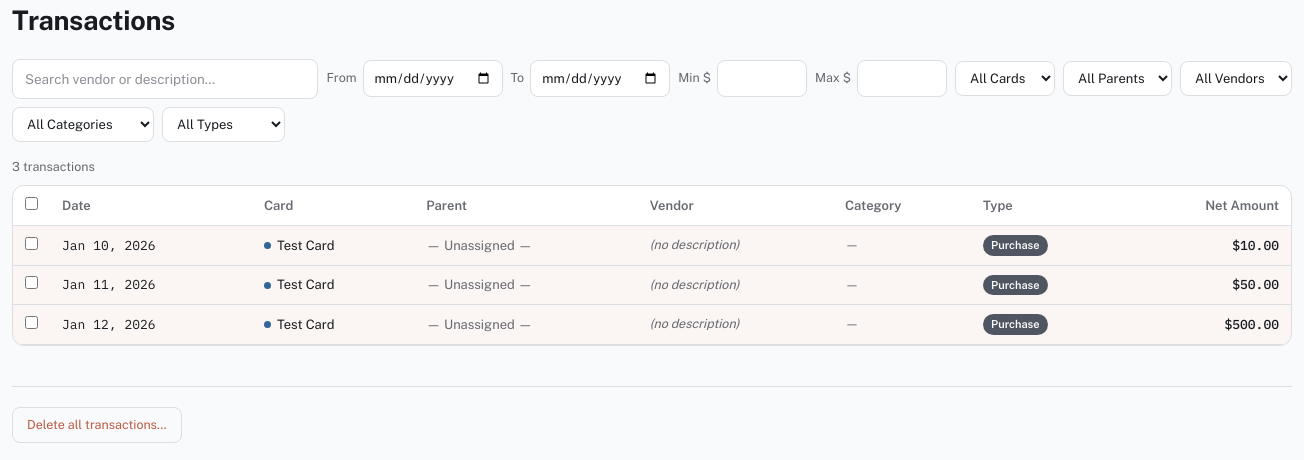
Test: Transactions amount filter › keeps only transactions with a gross amount at or above Min $
In the number field labelled "Min $": x=762, y=79 [717,60,807,97], type "40"
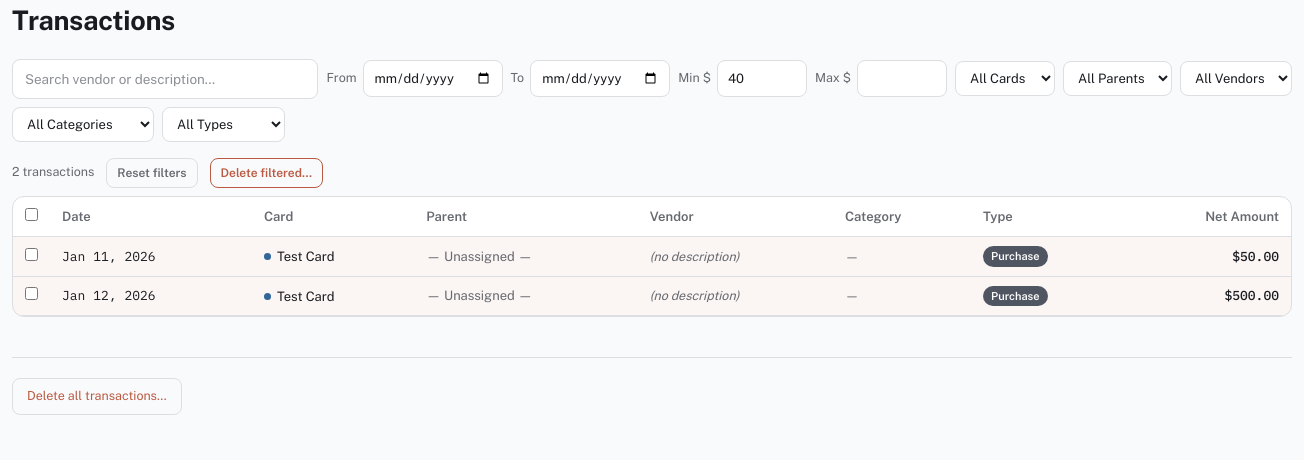
Expected: the text "Jan 11, 2026" is shown, [50,237,252,276]
Expected: the text "2 transactions" is shown, [12,163,94,182]
Expected: the text "Jan 10, 2026" is gone
